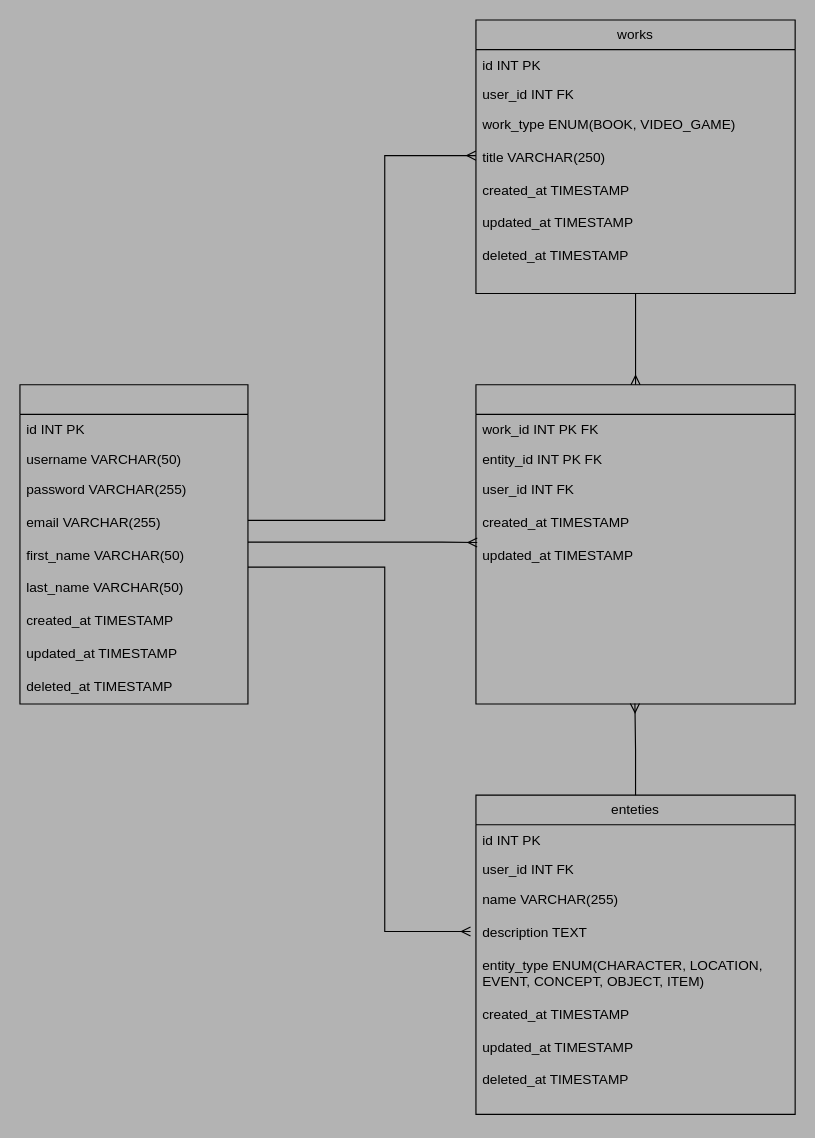
The diagram is 815 pixels wide and 1138 high, and some of its shapes have lost their labels. The box of each missing label's shape, as (x1, y1, x2, y2) in pixels:
users: (19, 384, 248, 704)
work_enteties: (475, 384, 795, 704)
